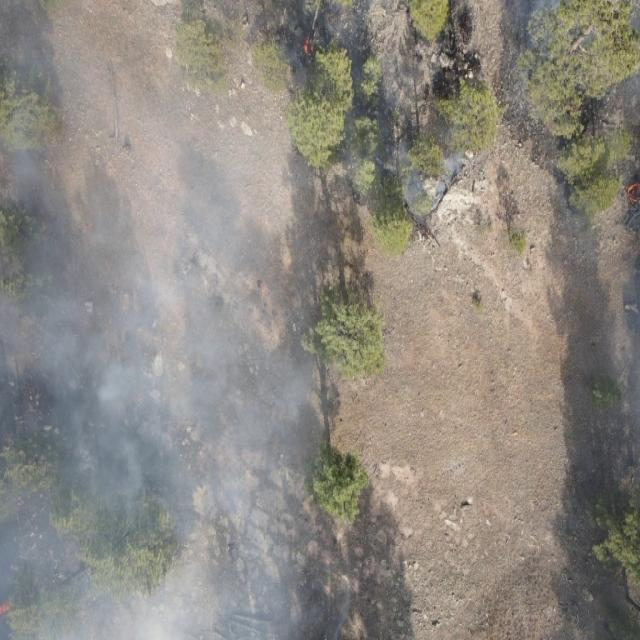fire: (624, 180, 640, 204), (302, 34, 314, 58), (0, 600, 12, 616)
smoke: (0, 0, 353, 640), (499, 0, 640, 158), (388, 52, 466, 216), (604, 253, 640, 448)
